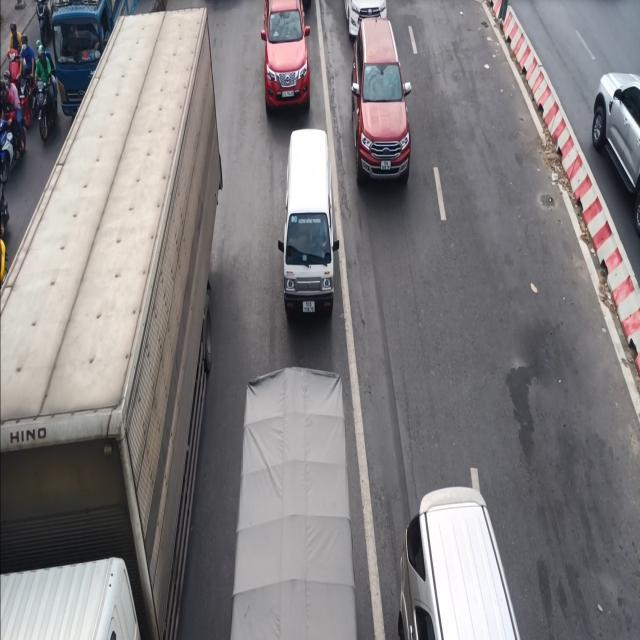car: (396, 467, 522, 639), (350, 16, 412, 184), (260, 0, 311, 114)
truck: (2, 15, 223, 637), (225, 370, 357, 640), (277, 127, 337, 319)
